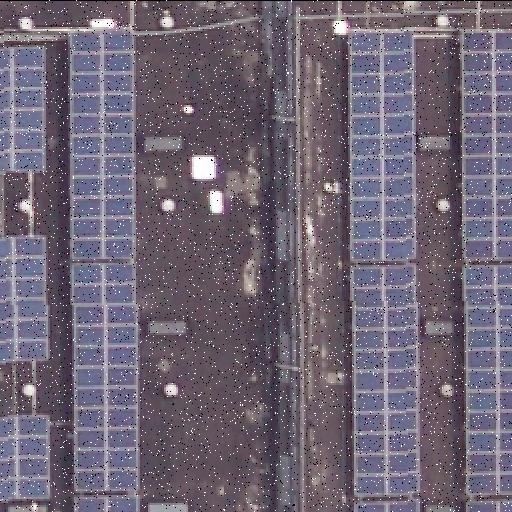solar-panel: (346, 265, 418, 495), (345, 27, 415, 261), (72, 261, 140, 491), (71, 30, 137, 258), (464, 266, 512, 494), (464, 31, 512, 257), (0, 239, 48, 361), (1, 49, 47, 175), (0, 417, 48, 503), (76, 496, 140, 512), (350, 500, 418, 512), (465, 500, 511, 512)
